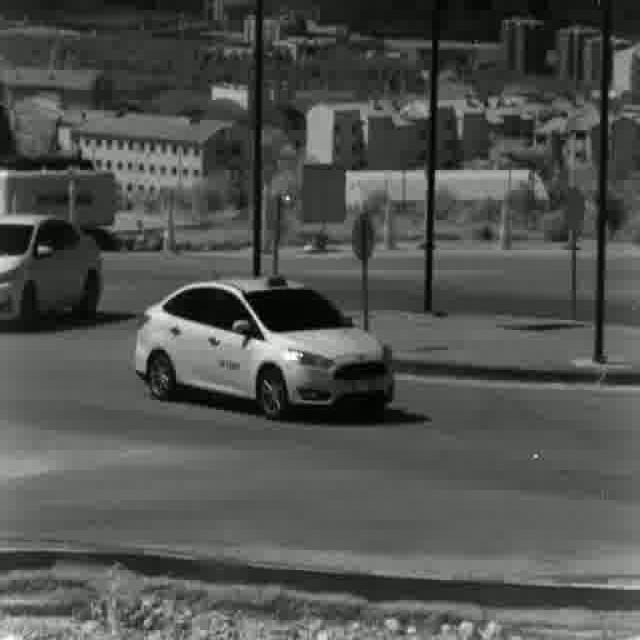Car: (133, 274, 393, 424), (0, 212, 100, 327)
